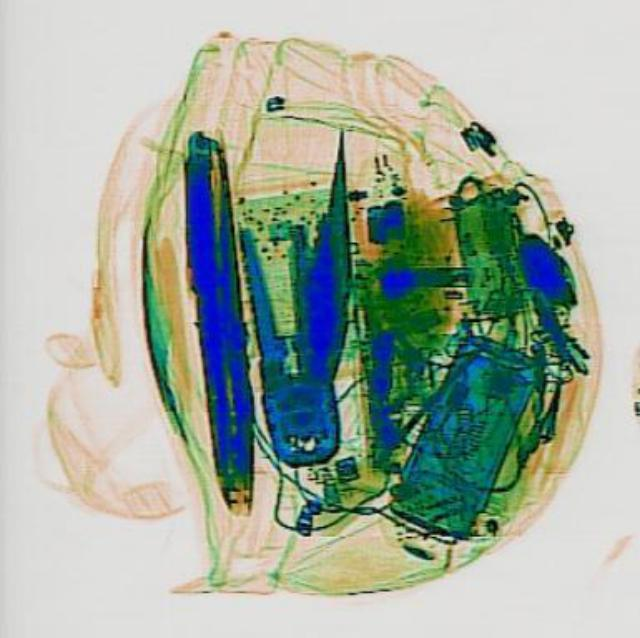Pliers: (222, 124, 374, 466)
